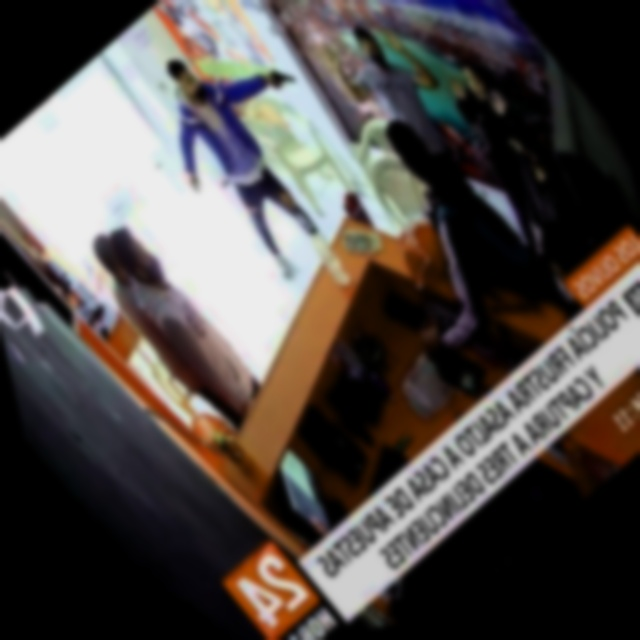gun: (252, 47, 310, 109)
